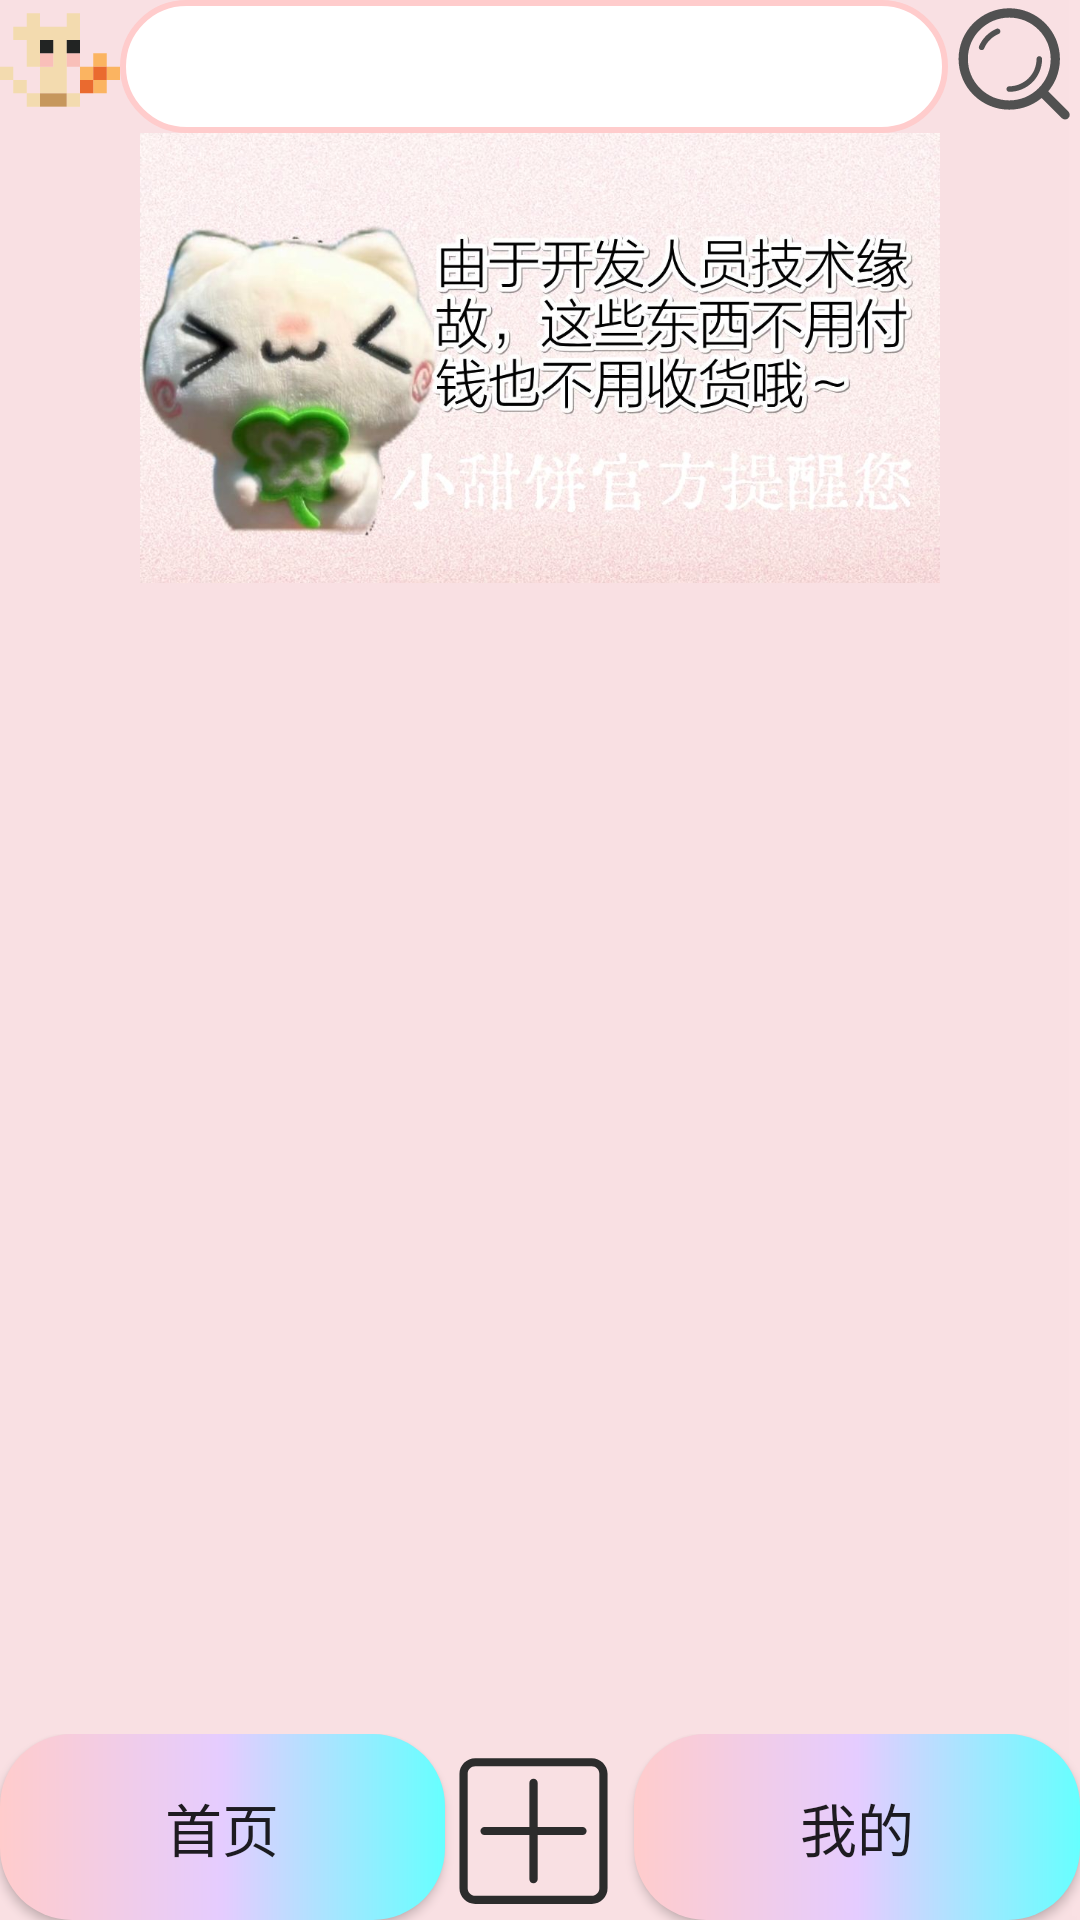

Screen size 1080w x 1920h. Icon name, then its box in pixels as (x1, y1, x2, y2):
add: (459, 1758, 608, 1904)
cat: (0, 13, 120, 107)
search: (958, 8, 1070, 120)
